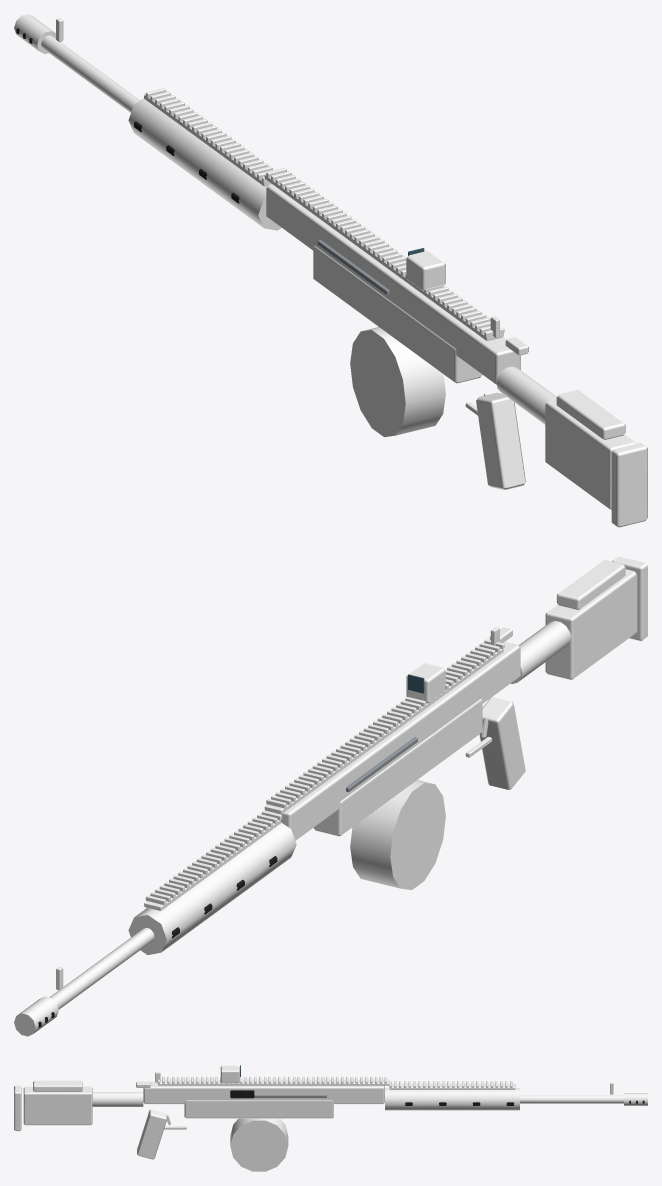
The model's file is anvil.glb.
The picture shows the model from 3 angles, top to bottom: view 1: azimuth 30°, elevation 25°; view 2: azimuth 150°, elevation 25°; view 3: azimuth 270°, elevation 25°; orthographic projection. The views are drawn at different scales.
Size of the model in its own units: 0.05 by 0.2275 by 1.31.
5 materials, 1 textured.
